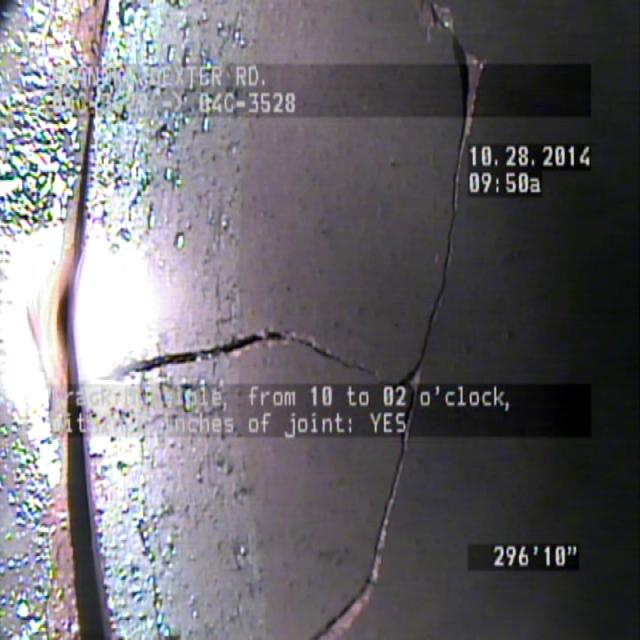Crack: (148, 134, 469, 387), (308, 442, 432, 638)
